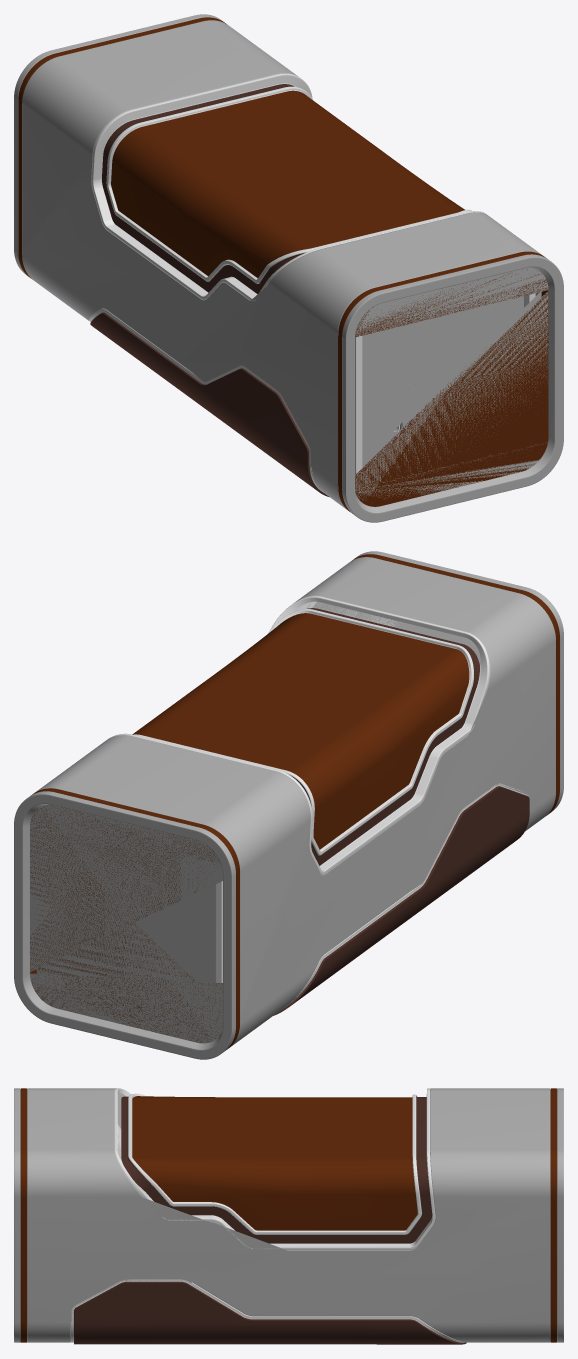
File: panel.fbx
3 views of the same model, one above another, from view 1: azimuth 30°, elevation 25°; view 2: azimuth 150°, elevation 25°; view 3: azimuth 270°, elevation 25° (orthographic). The views are drawn at different scales.
Parts seen in each view (by area): view 1: PowerBank; view 2: PowerBank; view 3: PowerBank.
Part boxes in pixels (box(x1,y1,x2,y2)): PowerBank: box(14, 14, 563, 522); PowerBank: box(14, 551, 563, 1059); PowerBank: box(14, 1088, 563, 1344).
Bounding box in the file's own units: 5.68 × 5.63 × 14.68.
